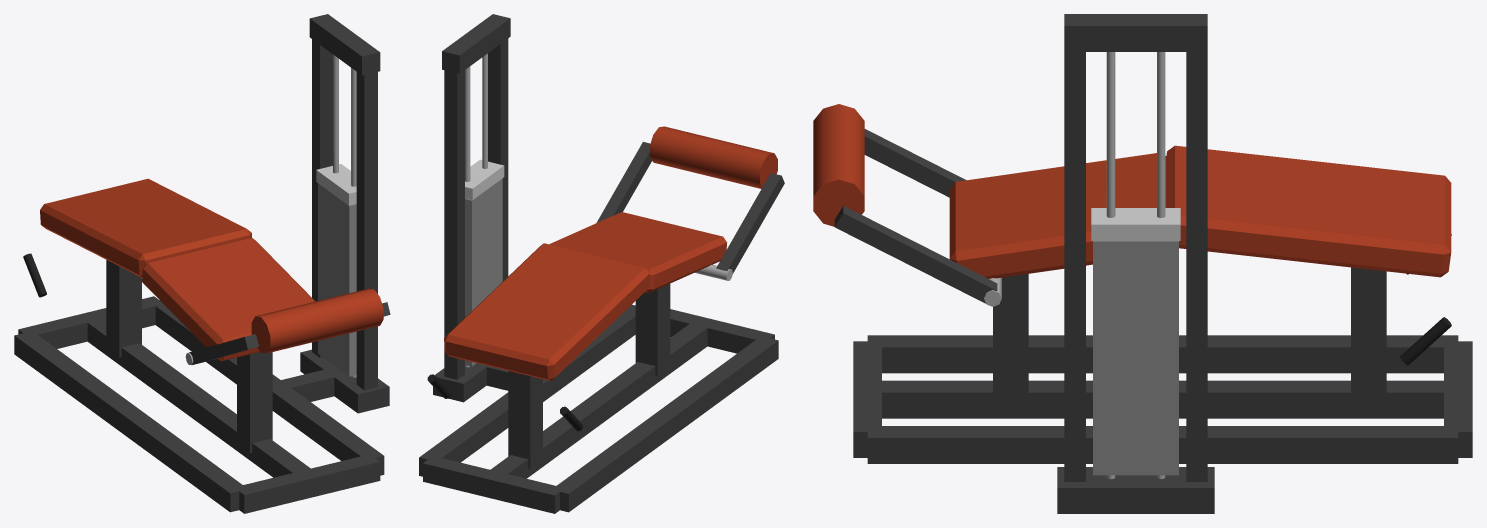
File: Leg_Curl.fbx
The picture shows the model from 3 angles, left to right: view 1: azimuth 30°, elevation 25°; view 2: azimuth 150°, elevation 25°; view 3: azimuth 270°, elevation 25°; orthographic projection. The views are drawn at different scales.
Visible parts, largest first — view 1: Leg_Curl; view 2: Leg_Curl; view 3: Leg_Curl.
Boxes of the visible parts, <box> form: Leg_Curl: <box>14,14,390,513</box>; Leg_Curl: <box>419,14,784,513</box>; Leg_Curl: <box>813,14,1472,513</box>.
Size of the model in its own units: 101 by 149 by 184.
